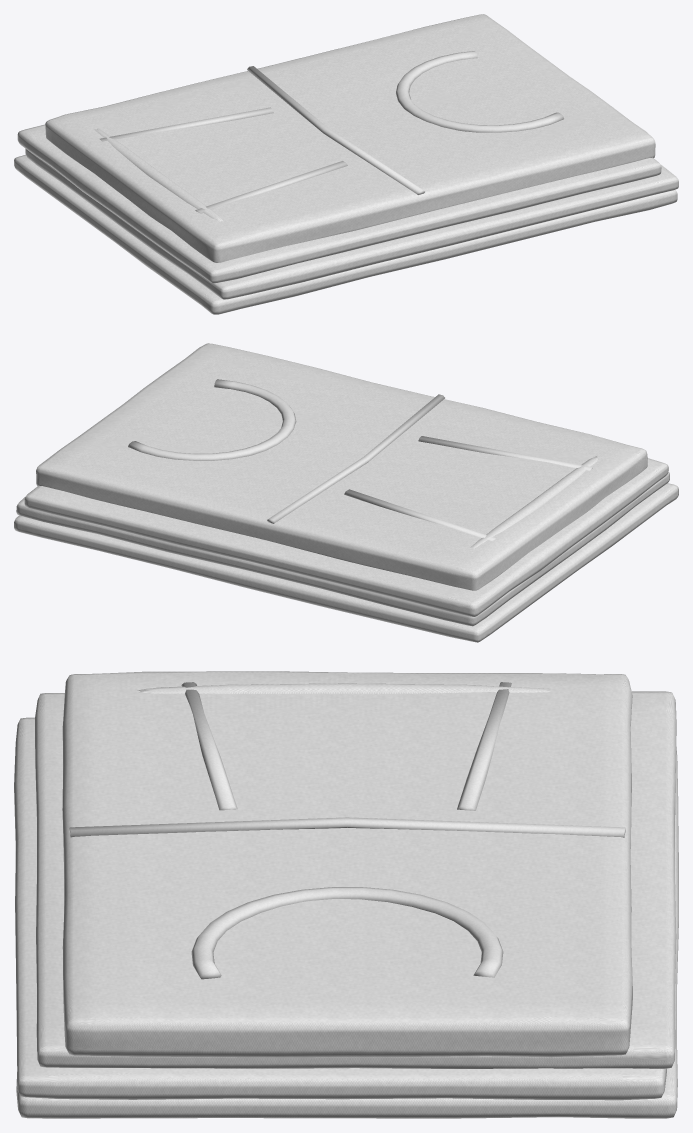
Rendered from dress.glb.
3 views of the same model, one above another, from view 1: azimuth 30°, elevation 25°; view 2: azimuth 150°, elevation 25°; view 3: azimuth 270°, elevation 25° (orthographic). The views are drawn at different scales.
Parts seen in each view (by area): view 1: dress_layer, dress_fold2, dress_fold1, dress_fold0, dress_neck, dress_waist, dress_hem, dress_pleat1, dress_pleat-1; view 2: dress_layer, dress_fold2, dress_fold0, dress_fold1, dress_neck, dress_waist, dress_hem, dress_pleat-1, dress_pleat1; view 3: dress_layer, dress_fold2, dress_fold1, dress_fold0, dress_neck, dress_waist, dress_hem, dress_pleat1, dress_pleat-1.
Part boxes in pixels (bbox=[...]): dress_layer: bbox=[45, 14, 655, 262]; dress_fold2: bbox=[17, 124, 661, 283]; dress_fold1: bbox=[25, 148, 678, 299]; dress_fold0: bbox=[14, 154, 677, 314]; dress_neck: bbox=[396, 51, 563, 132]; dress_waist: bbox=[247, 66, 424, 194]; dress_hem: bbox=[94, 128, 223, 221]; dress_pleat1: bbox=[100, 107, 273, 141]; dress_pleat-1: bbox=[195, 161, 347, 213]; dress_layer: bbox=[36, 343, 647, 590]; dress_fold2: bbox=[24, 458, 668, 616]; dress_fold0: bbox=[14, 483, 678, 642]; dress_fold1: bbox=[16, 471, 669, 626]; dress_neck: bbox=[128, 379, 296, 460]; dress_waist: bbox=[267, 394, 444, 523]; dress_hem: bbox=[470, 456, 599, 548]; dress_pleat-1: bbox=[418, 436, 592, 471]; dress_pleat1: bbox=[344, 489, 495, 540]; dress_layer: bbox=[62, 671, 632, 1057]; dress_fold2: bbox=[35, 691, 676, 1068]; dress_fold1: bbox=[14, 717, 666, 1100]; dress_fold0: bbox=[16, 747, 678, 1118]; dress_neck: bbox=[191, 887, 503, 979]; dress_waist: bbox=[69, 817, 625, 837]; dress_hem: bbox=[137, 683, 550, 694]; dress_pleat1: bbox=[457, 682, 511, 810]; dress_pleat-1: bbox=[181, 682, 237, 810].
Bounding box in the file's own units: 32.15 × 4.22 × 24.17.
1 material, 1 textured.
